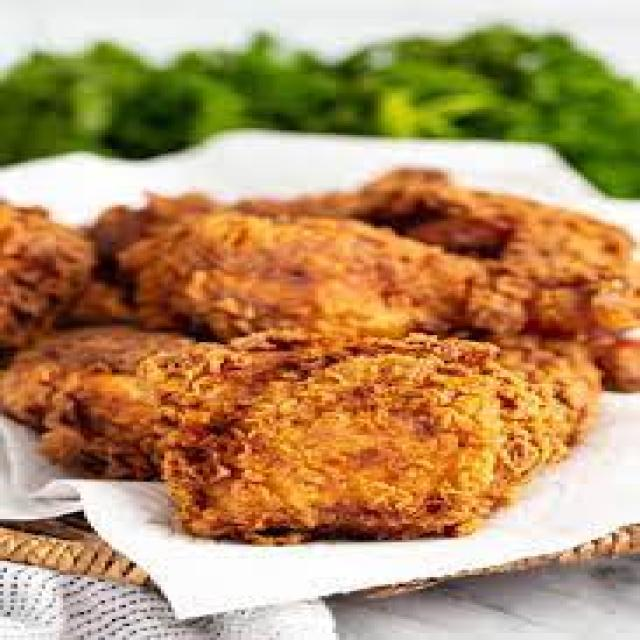Frango: (0, 165, 633, 549)
